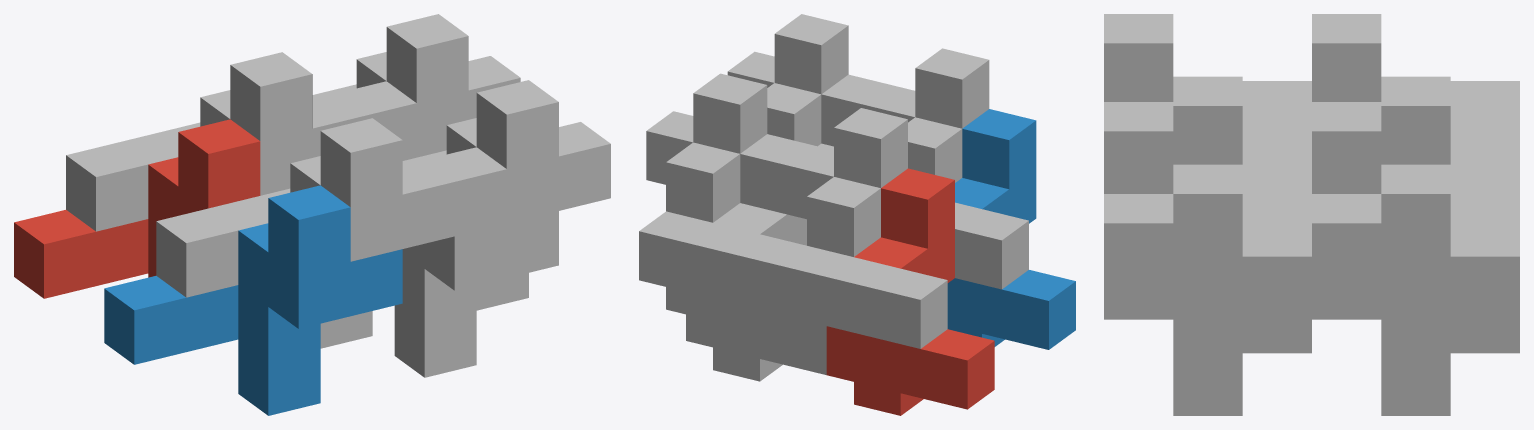
The model's file is tiling.obj.
3 views of the same model, side by side, from view 1: azimuth 30°, elevation 25°; view 2: azimuth 150°, elevation 25°; view 3: azimuth 270°, elevation 25° (orthographic). The views are drawn at different scales.
Parts seen in each view (by area): view 1: copy_1_domain_2, copy_1_domain_4, copy_1_domain_6, copy_1_domain_3, copy_1_domain_1, copy_1_domain_8, copy_1_domain_7, copy_1_domain_5; view 2: copy_1_domain_3, copy_1_domain_7, copy_1_domain_1, copy_1_domain_2, copy_1_domain_4, copy_1_domain_5, copy_1_domain_8, copy_1_domain_6; view 3: copy_1_domain_7, copy_1_domain_8, copy_1_domain_3, copy_1_domain_4, copy_1_domain_5, copy_1_domain_6.
Part boxes in pixels (box(x1,y1,x2,y2)): copy_1_domain_2: box(104, 185, 402, 415); copy_1_domain_4: box(156, 118, 454, 348); copy_1_domain_6: box(394, 147, 558, 377); copy_1_domain_3: box(66, 52, 364, 231); copy_1_domain_1: box(14, 119, 260, 298); copy_1_domain_8: box(402, 80, 610, 310); copy_1_domain_7: box(312, 14, 520, 157); copy_1_domain_5: box(335, 81, 416, 160); copy_1_domain_3: box(780, 108, 947, 348); copy_1_domain_7: box(639, 73, 806, 314); copy_1_domain_1: box(826, 168, 994, 415); copy_1_domain_2: box(947, 109, 1075, 349); copy_1_domain_4: box(868, 48, 1028, 289); copy_1_domain_5: box(686, 134, 826, 381); copy_1_domain_8: box(727, 14, 848, 146); copy_1_domain_6: box(818, 74, 894, 150); copy_1_domain_7: box(1312, 102, 1519, 382); copy_1_domain_8: box(1104, 102, 1311, 382); copy_1_domain_3: box(1312, 14, 1519, 168); copy_1_domain_4: box(1104, 14, 1311, 168); copy_1_domain_5: box(1312, 286, 1519, 415); copy_1_domain_6: box(1104, 286, 1311, 415).
Size of the model in its own units: 8 by 5 by 6.
